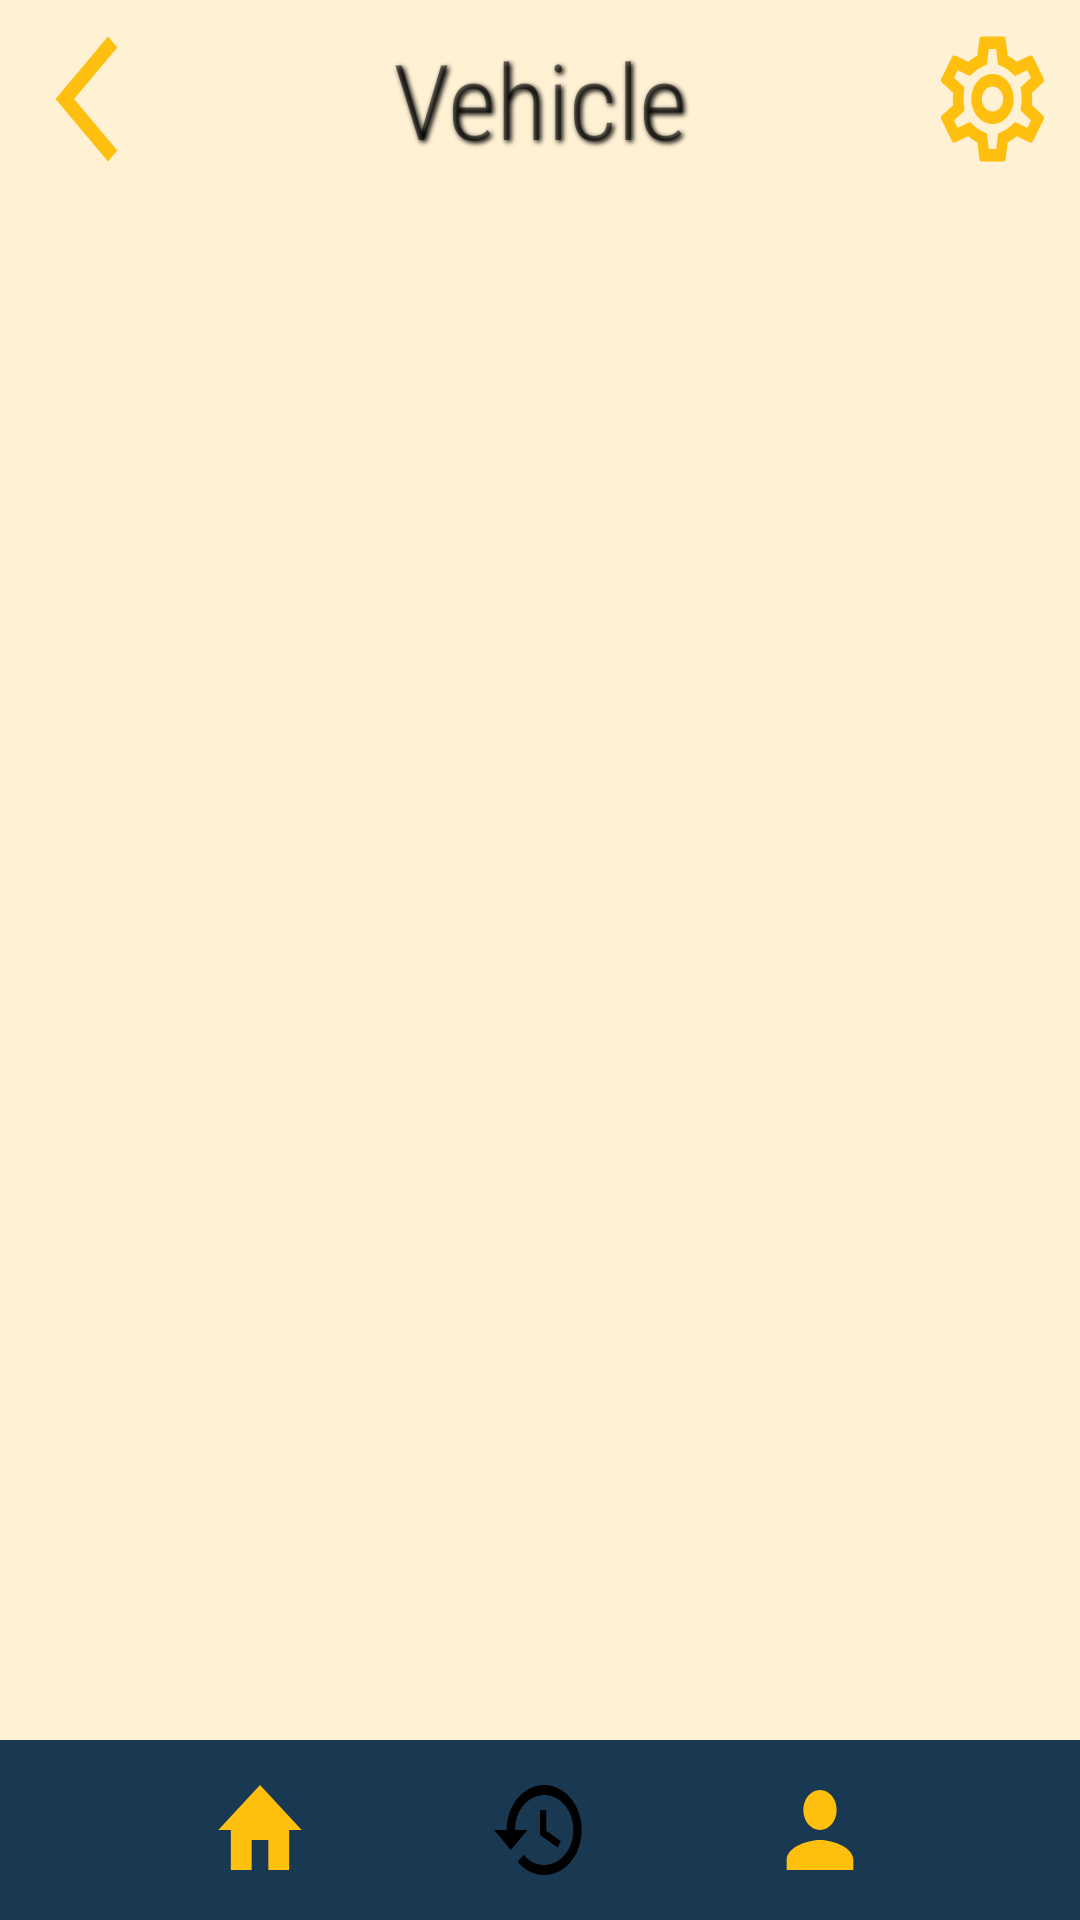

Locate icon controls on the screen. Image size 1080px x 1920px, boxes as (x1, y1, x2, y2).
go back: (55, 37, 117, 161)
history: (494, 1785, 582, 1875)
home: (218, 1785, 302, 1870)
profile: (786, 1790, 854, 1870)
settings: (941, 36, 1044, 162)
